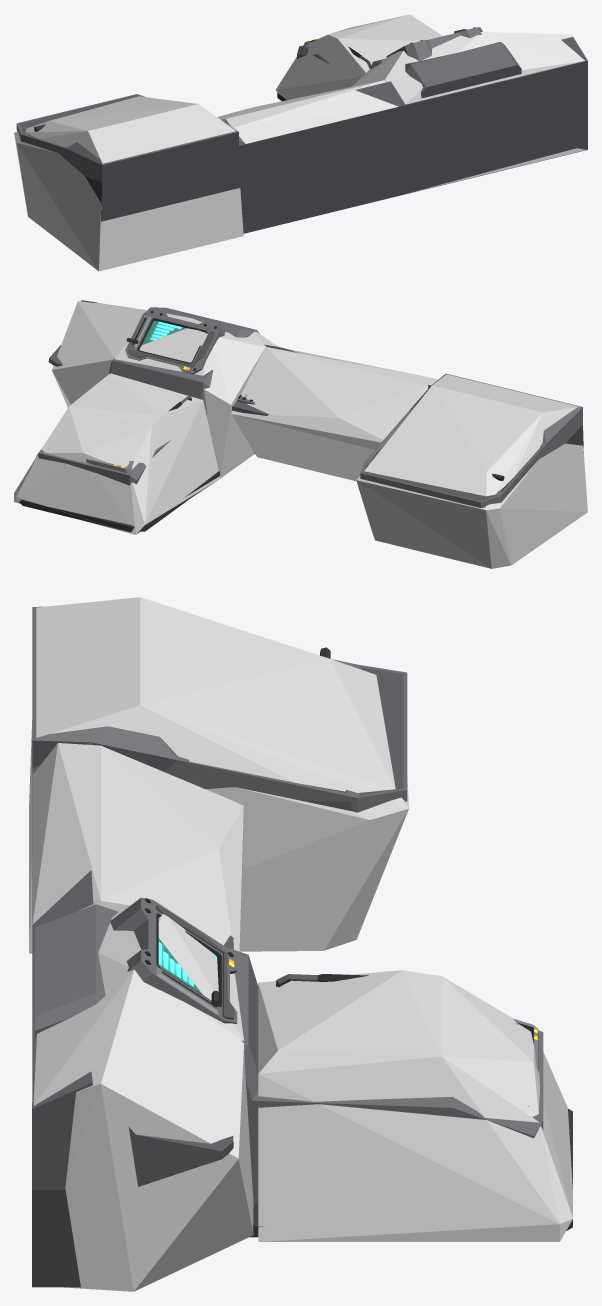
File: SM_Prop_ControlPanel_01.fbx
The picture shows the model from 3 angles, top to bottom: view 1: azimuth 30°, elevation 25°; view 2: azimuth 150°, elevation 25°; view 3: azimuth 270°, elevation 25°; orthographic projection. The views are drawn at different scales.
Visible parts, largest first — view 1: SM_Prop_ControlPanel_01_LOD0, SM_Prop_ControlPanel_01_ConvexHulls; view 2: SM_Prop_ControlPanel_01_ConvexHulls, SM_Prop_ControlPanel_01_LOD0; view 3: SM_Prop_ControlPanel_01_ConvexHulls, SM_Prop_ControlPanel_01_LOD0.
Part boxes in pixels (x1,y1,x2,y2): SM_Prop_ControlPanel_01_LOD0: (16, 27, 587, 233); SM_Prop_ControlPanel_01_ConvexHulls: (14, 14, 585, 271); SM_Prop_ControlPanel_01_ConvexHulls: (14, 301, 587, 568); SM_Prop_ControlPanel_01_LOD0: (19, 300, 583, 532); SM_Prop_ControlPanel_01_ConvexHulls: (29, 597, 572, 1291); SM_Prop_ControlPanel_01_LOD0: (32, 606, 572, 1287).
Bounding box in the file's own units: 256 × 535 × 129.
1 material, 1 textured.
